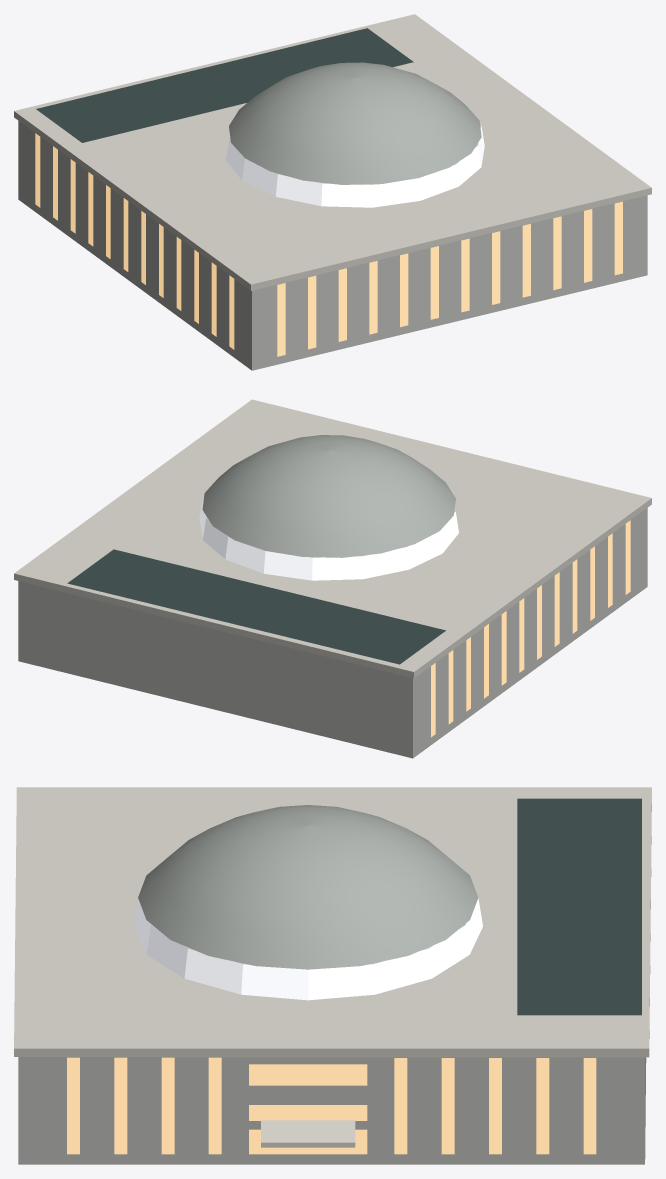
File: state_bank_far.glb
The picture shows the model from 3 angles, top to bottom: view 1: azimuth 30°, elevation 25°; view 2: azimuth 150°, elevation 25°; view 3: azimuth 270°, elevation 25°; orthographic projection. The views are drawn at different scales.
Parts seen in each view (by area): view 1: m_fascia, m_stone_far, m_dome_far, m_roof_dark, m_window_glass, m_dome_white; view 2: m_fascia, m_stone_far, m_dome_far, m_roof_dark, m_dome_white, m_window_glass; view 3: m_fascia, m_stone_far, m_dome_far, m_roof_dark, m_window_glass, m_dome_white, m_porch_slab.
Part boxes in pixels (box(x1,y1,x2,y2)): m_fascia: box(14, 14, 651, 290); m_stone_far: box(18, 121, 647, 370); m_dome_far: box(229, 62, 481, 184); m_roof_dark: box(36, 28, 413, 142); m_window_glass: box(35, 133, 622, 356); m_dome_white: box(226, 125, 484, 207); m_fascia: box(14, 399, 651, 678); m_stone_far: box(18, 508, 647, 758); m_dome_far: box(202, 435, 455, 557); m_roof_dark: box(67, 549, 445, 664); m_dome_white: box(199, 498, 458, 580); m_window_glass: box(431, 520, 630, 737); m_fascia: box(14, 787, 651, 1057); m_stone_far: box(18, 1057, 646, 1164); m_dome_far: box(138, 805, 478, 969); m_roof_dark: box(517, 798, 641, 1015); m_window_glass: box(67, 1057, 596, 1154); m_dome_white: box(133, 898, 482, 1000); m_porch_slab: box(261, 1120, 355, 1147).
Bounding box in the file's own units: 56.49 × 20.4 × 53.98.
